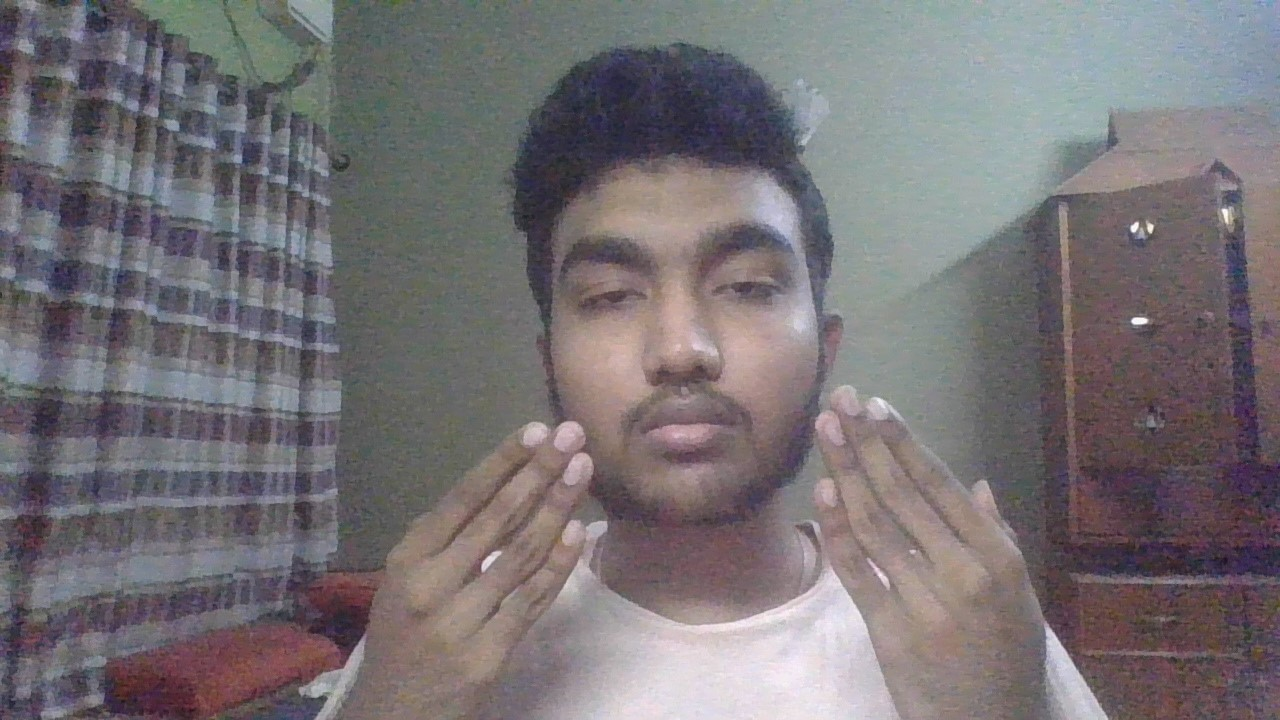Thank You: (356, 386, 1057, 718)
